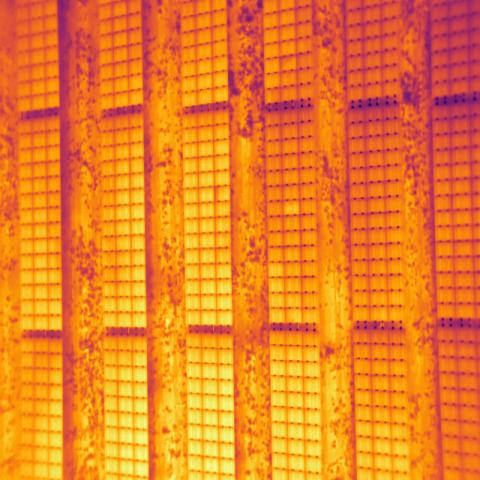fault: (282, 200, 300, 216)
